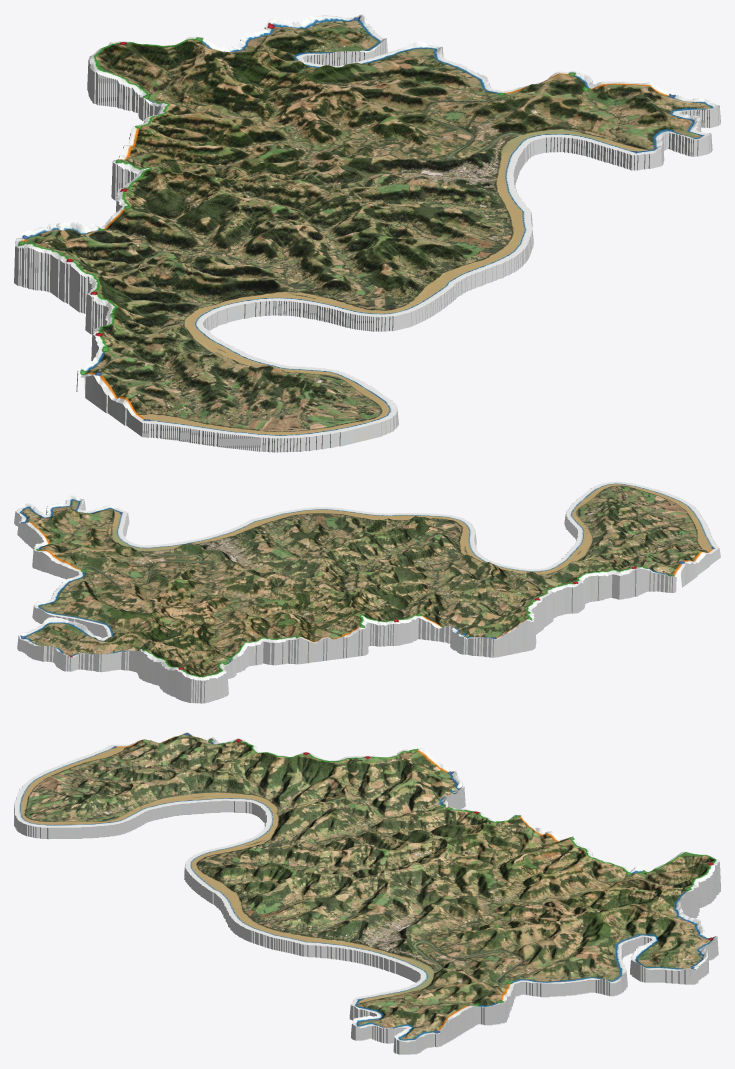
3 renders of one model, top to bottom at view 1: azimuth 30°, elevation 25°; view 2: azimuth 150°, elevation 25°; view 3: azimuth 270°, elevation 25°, orthographic. The views are drawn at different scales.
Bounding box in the file's own units: 1 × 0.0512 × 0.9934.
1 material, 1 textured.
